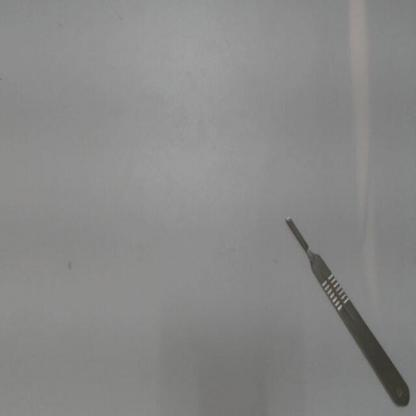No.4 BP Handle: (280, 207, 414, 412)
